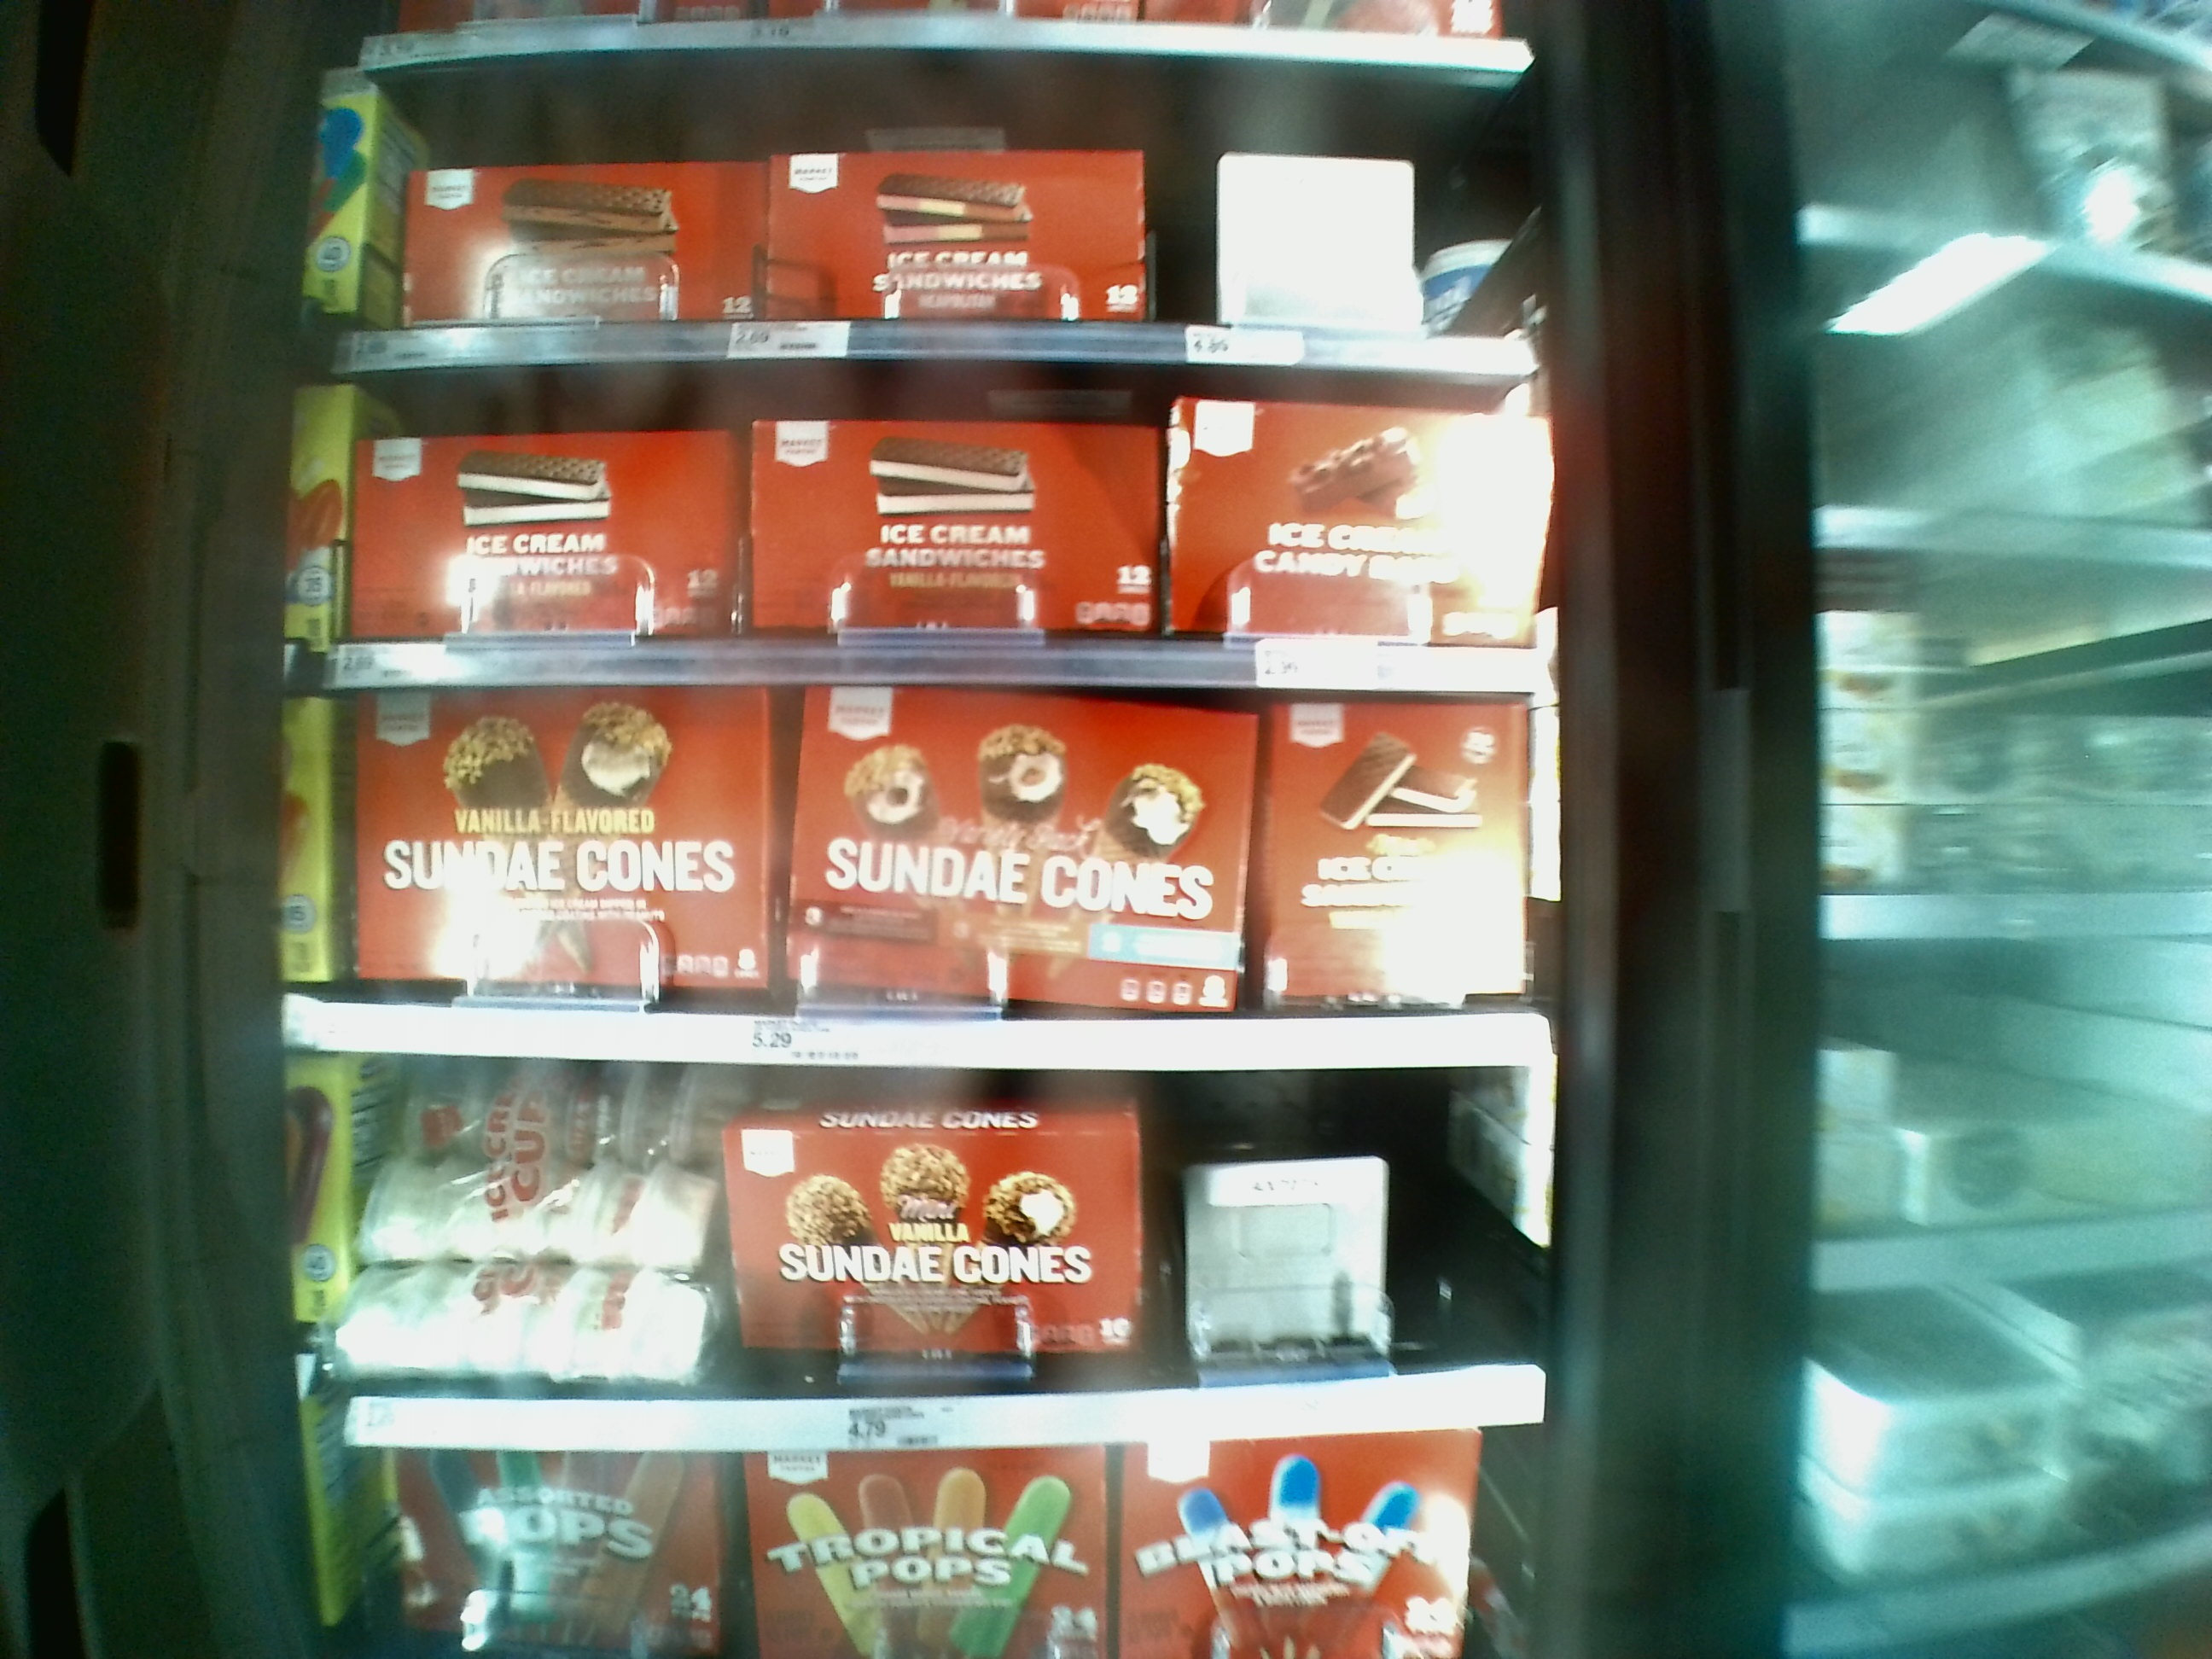shelf: (322, 687, 1533, 1063), (345, 1066, 1512, 1424), (347, 378, 1566, 702), (354, 73, 1534, 387)
